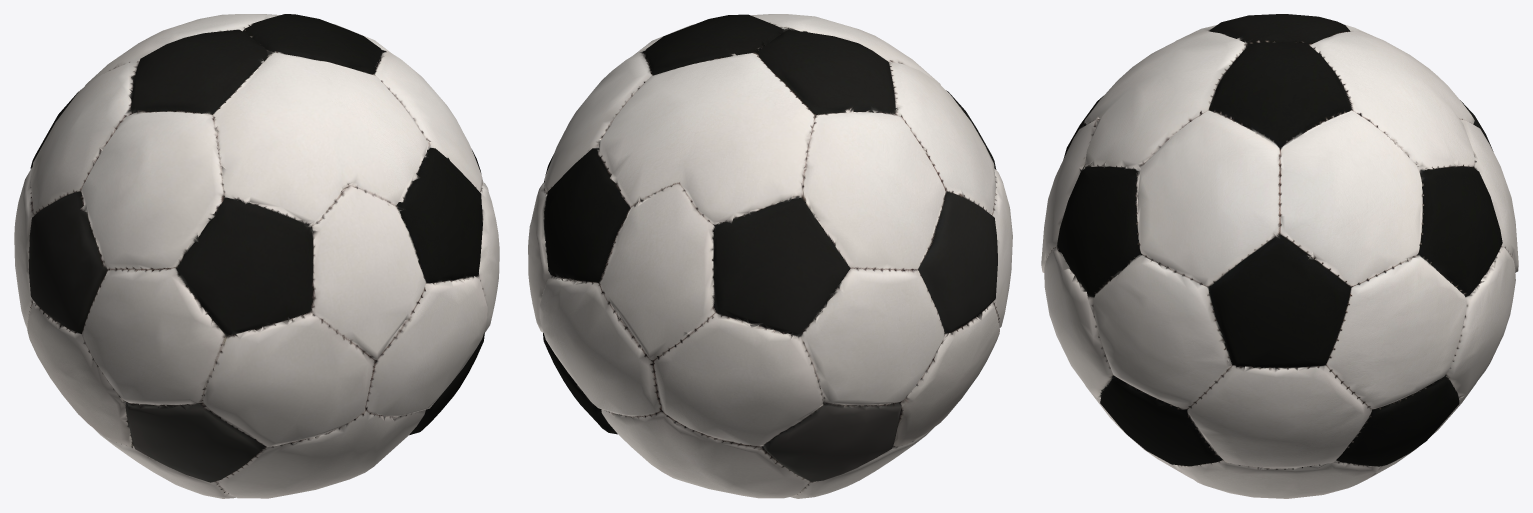
Rendered from soccer-ball.glb.
3 views of the same model, side by side, from view 1: azimuth 30°, elevation 25°; view 2: azimuth 150°, elevation 25°; view 3: azimuth 270°, elevation 25° (orthographic).
Parts seen in each view (by area): view 1: soccer-ball; view 2: soccer-ball; view 3: soccer-ball.
Part boxes in pixels (left/top/right/bottom): soccer-ball: left=14, top=14, right=499, bottom=498; soccer-ball: left=528, top=14, right=1012, bottom=498; soccer-ball: left=1041, top=14, right=1518, bottom=498.
Bounding box in the file's own units: 0.9188 × 0.92 × 0.9218.
Materials: 1 (1 with a texture image).
